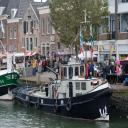tugboat: (12, 43, 113, 125)
